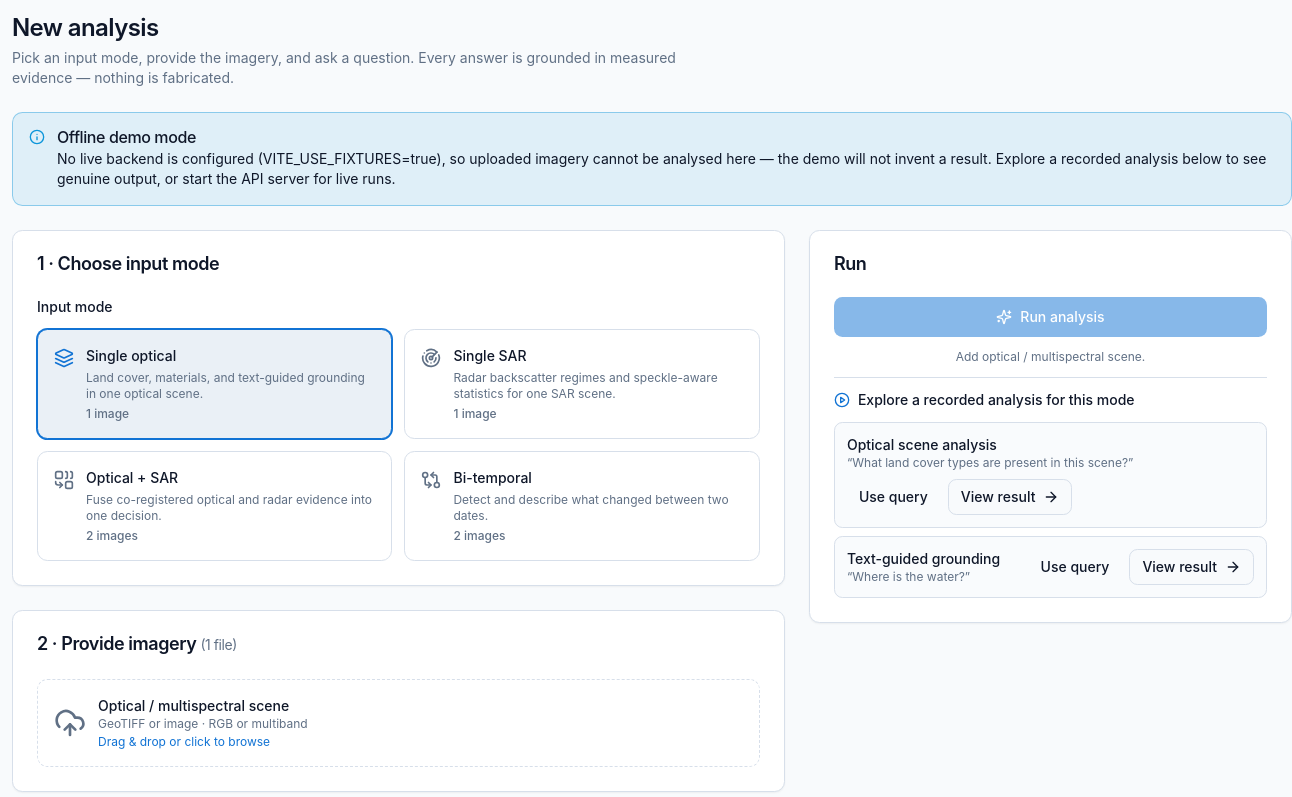
NewAnalysisPage › changes the required dropzones when the mode changes
Click the radio button labelled "Optical + SAR": coordinates (215, 506) [37,451,392,561]
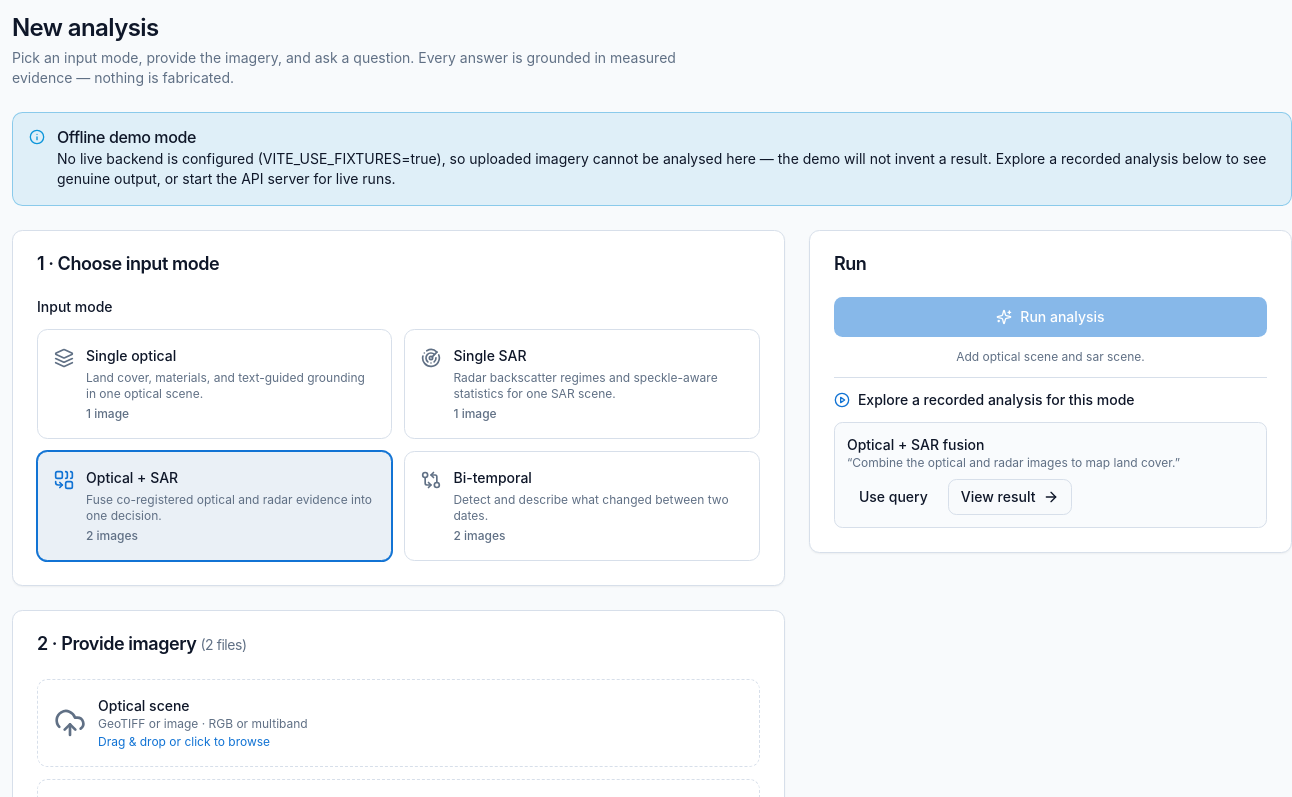
Check: the element labelled "Optical scene" is shown, box [37,679,760,767]
